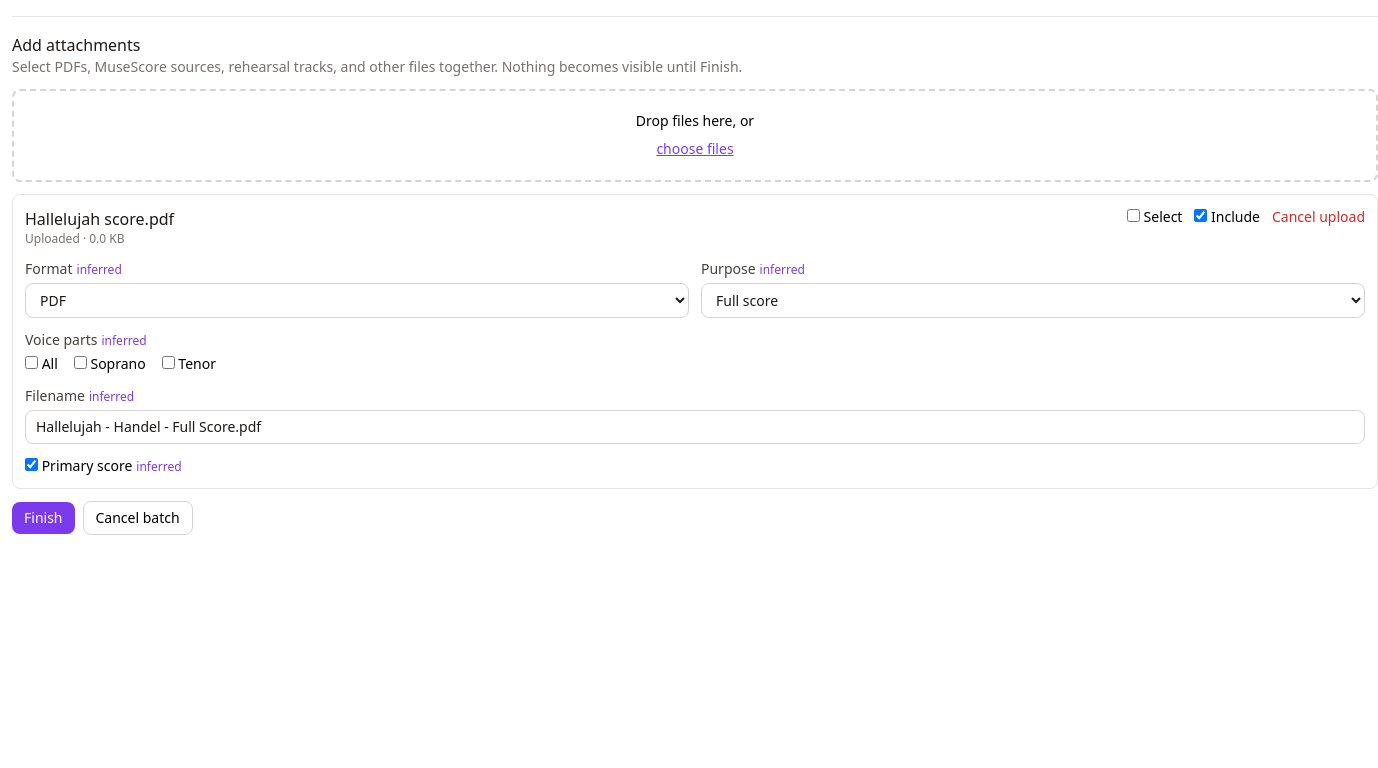
Test: AttachmentBatchReview › removes a cancelled row so it cannot be re-included
The image size is (1378, 768).
expect the checkbox labelled "Include" is shown: met, box [1194,209,1207,222]
Click the button "Cancel upload" at (1318, 217), box [1272,207,1365,227]
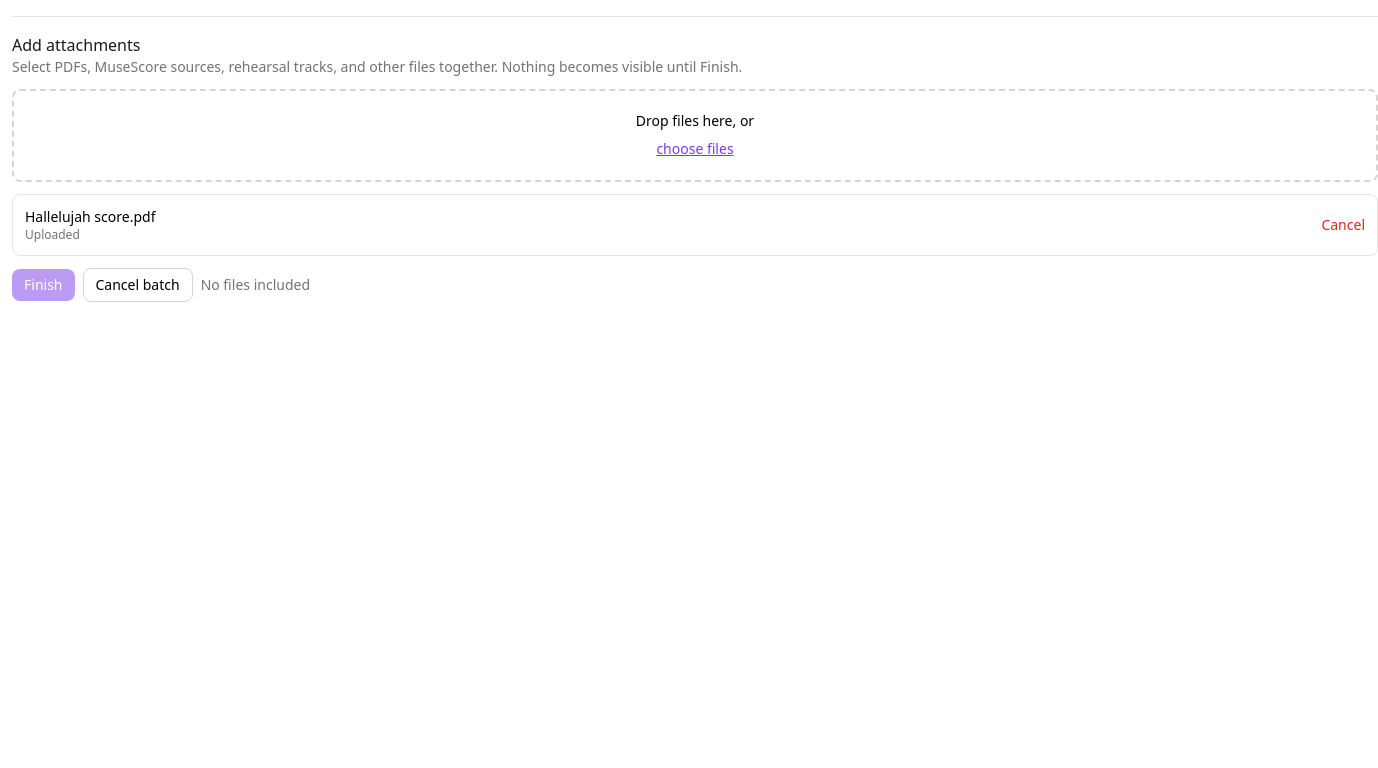
expect the element with test id "review-row-upload-1" is gone: met
